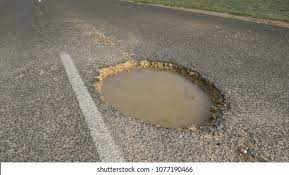potholes: (95, 57, 231, 138)
